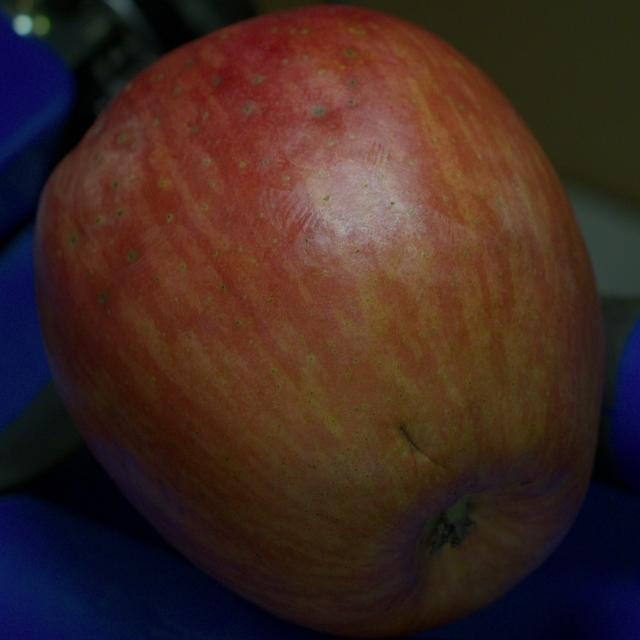apple: (34, 6, 604, 637)
pest: (314, 108, 325, 117), (99, 291, 107, 303), (128, 250, 136, 261), (344, 49, 356, 56), (214, 76, 222, 86)
scratch: (398, 425, 451, 480)
